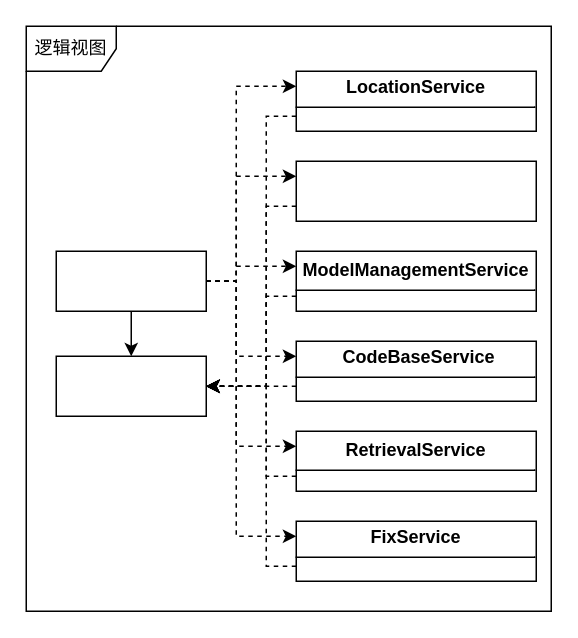
This 578x638 diagram has some shape labels left out. The shapes that lost their labels are listed below. From the top down, each one's centre as x and y in pixels, then its label:
At [415,190]: "BugAnalysisService".
At [130,280]: "Controller".
At [130,385]: "ConfigService".
